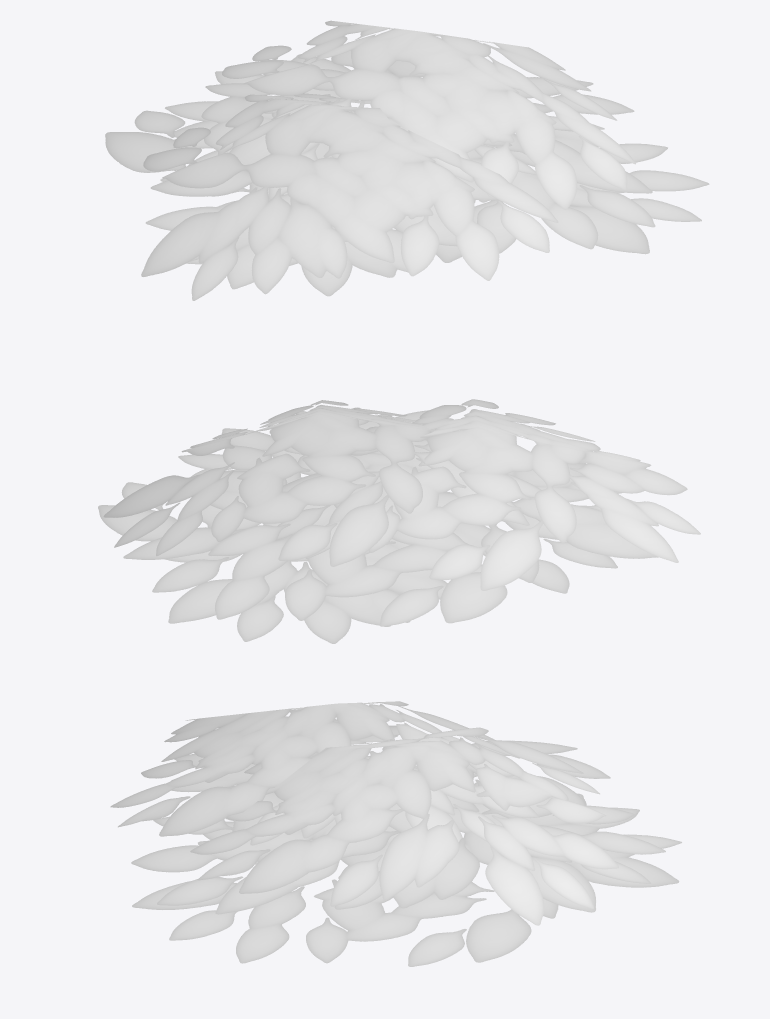
The model's file is LeafPile.fbx.
3 views of the same model, one above another, from view 1: azimuth 30°, elevation 25°; view 2: azimuth 150°, elevation 25°; view 3: azimuth 270°, elevation 25° (orthographic). The views are drawn at different scales.
Parts seen in each view (by area): view 1: LeafPile; view 2: LeafPile; view 3: LeafPile.
Boxes of the visible parts, x1=… form: LeafPile: x1=105, y1=20, x2=709, y2=300; LeafPile: x1=98, y1=399, x2=700, y2=643; LeafPile: x1=110, y1=701, x2=681, y2=966.
Size of the model in its own units: 173 by 32.97 by 178.
